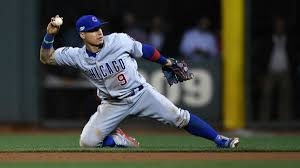baseball: (53, 16, 64, 27)
baseball player: (39, 15, 241, 150)
